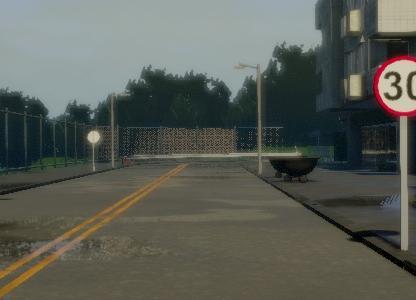Speed_30: (372, 55, 416, 114)
